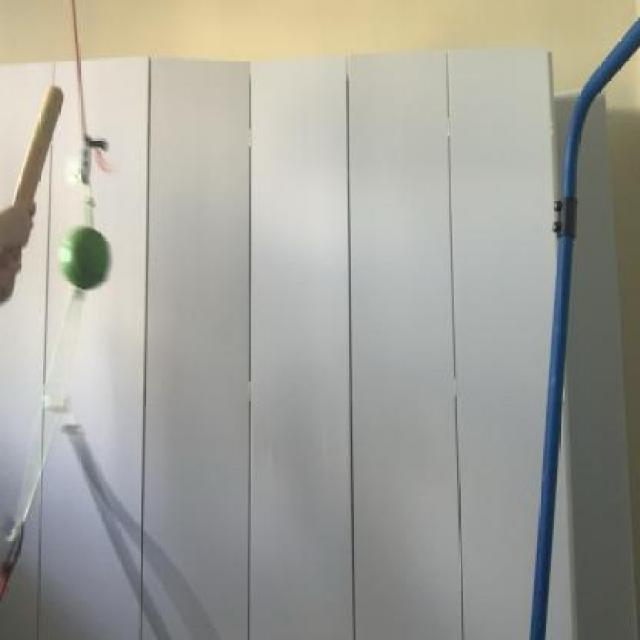baseball: (56, 218, 118, 300)
